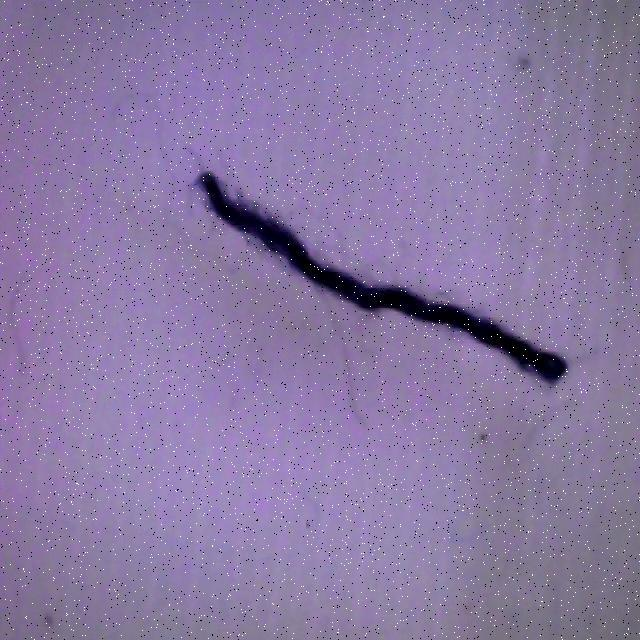Fibre: (167, 132, 575, 408)
